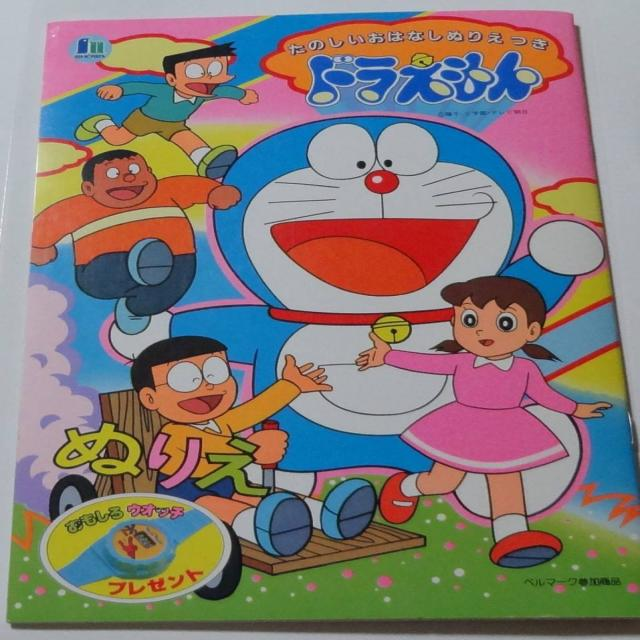doraemon: (205, 111, 537, 332)
jaian: (78, 144, 165, 211)
nobita: (130, 332, 249, 430)
shizuka: (429, 273, 565, 365)
suneo: (162, 39, 238, 100)
